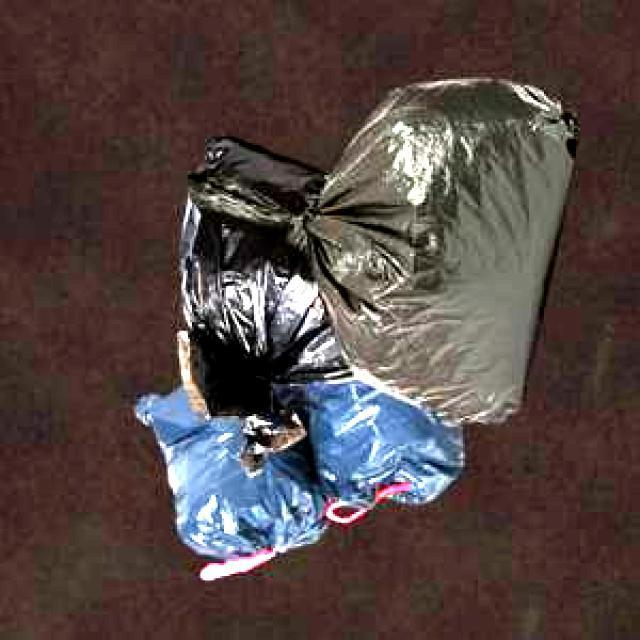Bolsa-de-nilon: (140, 77, 570, 593)
